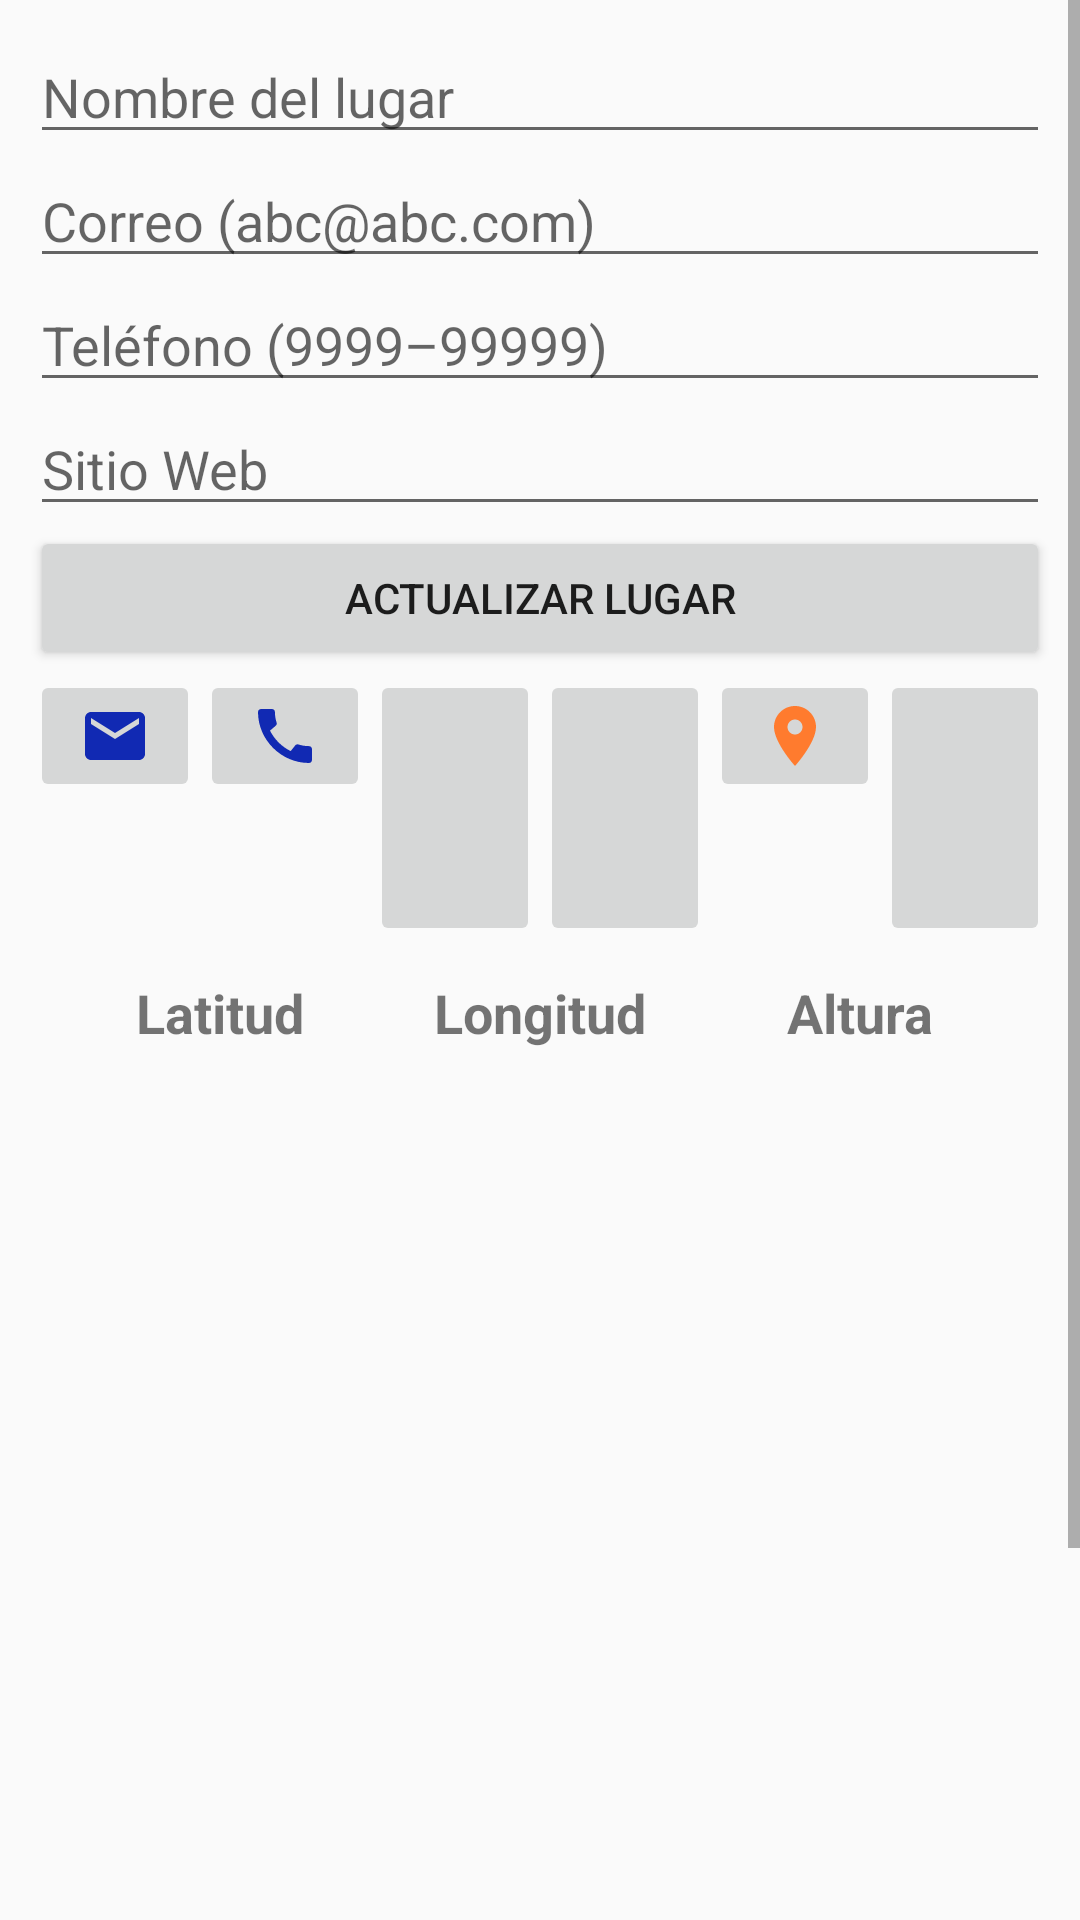

Named icons in this screenshot (1080 × 1920) and their bounding boxes, box(x1, y1, x2, y2):
Enviar correo electrónico: box(42, 688, 188, 784)
Realizar llamada telefónica: box(212, 688, 358, 784)
Ver lugar en mapa: box(722, 688, 868, 784)
